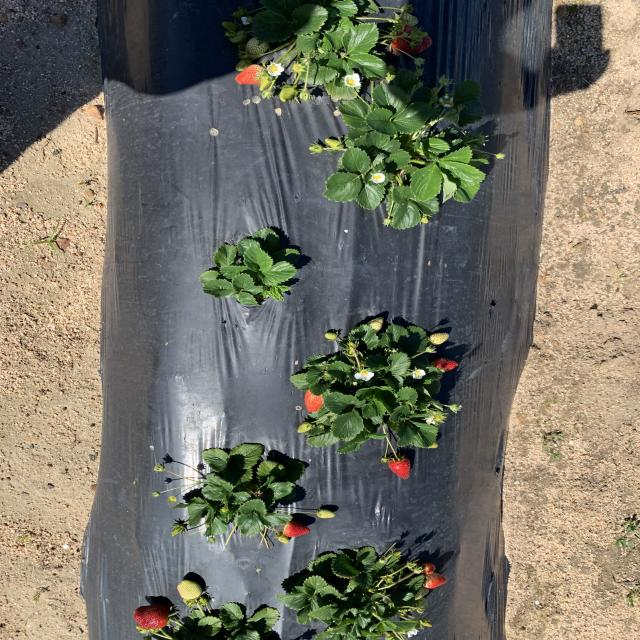unripe: (391, 24, 434, 53), (133, 604, 171, 629), (235, 64, 269, 84), (387, 458, 412, 480), (305, 387, 325, 411), (281, 520, 311, 536), (430, 357, 459, 372), (424, 574, 446, 587), (423, 562, 435, 574)
